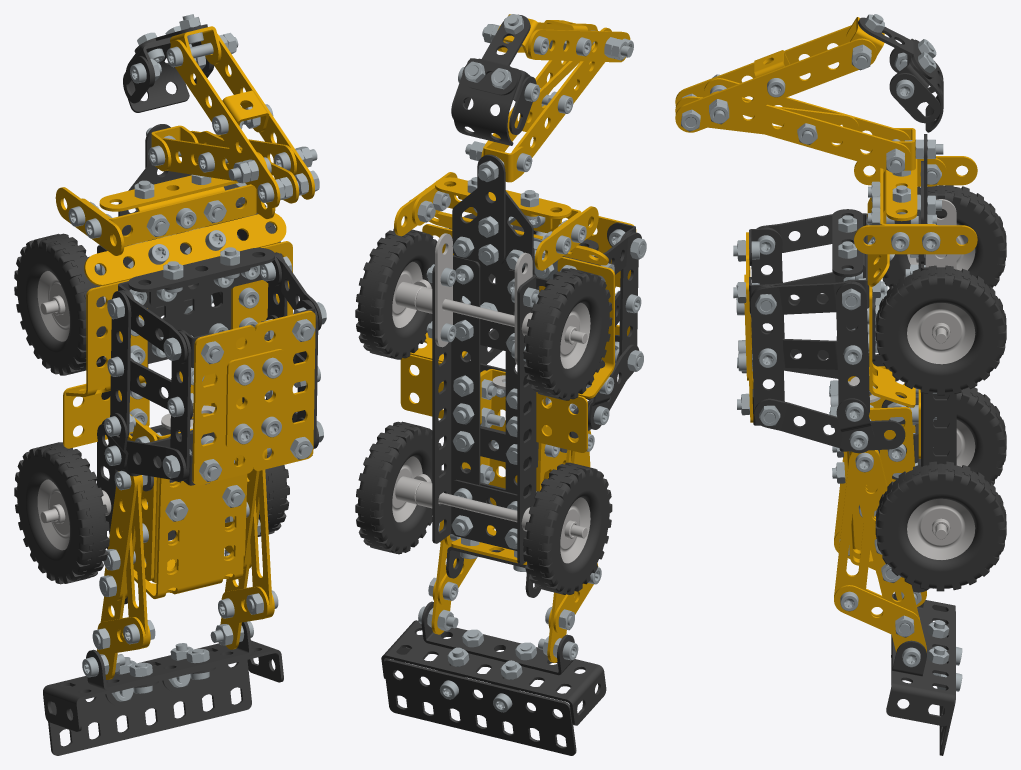
3 views of the same model, side by side, from view 1: azimuth 30°, elevation 25°; view 2: azimuth 150°, elevation 25°; view 3: azimuth 270°, elevation 25° (orthographic). The views are drawn at different scales.
Parts seen in each view (by area): view 1: Těleso1 (×57); view 2: Těleso1 (×55); view 3: Těleso1 (×43).
Boxes of the visible parts, box(x1,y1,x2,y2) form: Těleso1 (×57): box(14, 26, 321, 755); Těleso1 (×55): box(355, 14, 641, 755); Těleso1 (×43): box(675, 17, 1006, 726).
Bounding box in the file's own units: 0.076 × 0.2496 × 0.1073.
